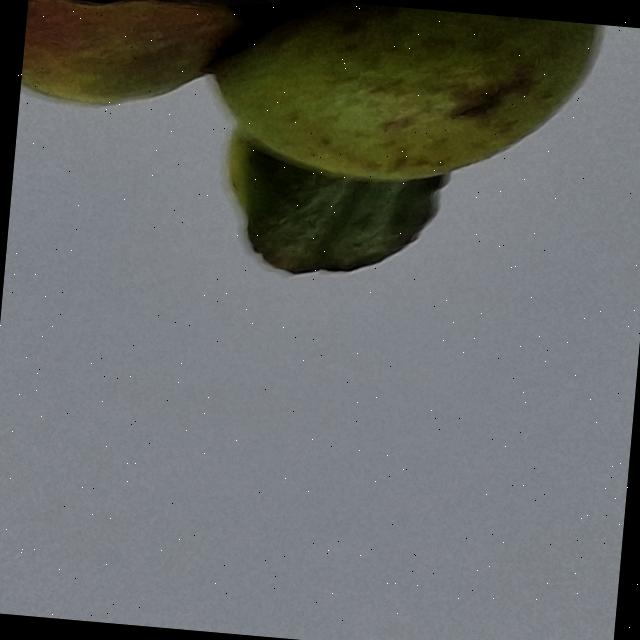mangosteen: (2, 0, 640, 333)
